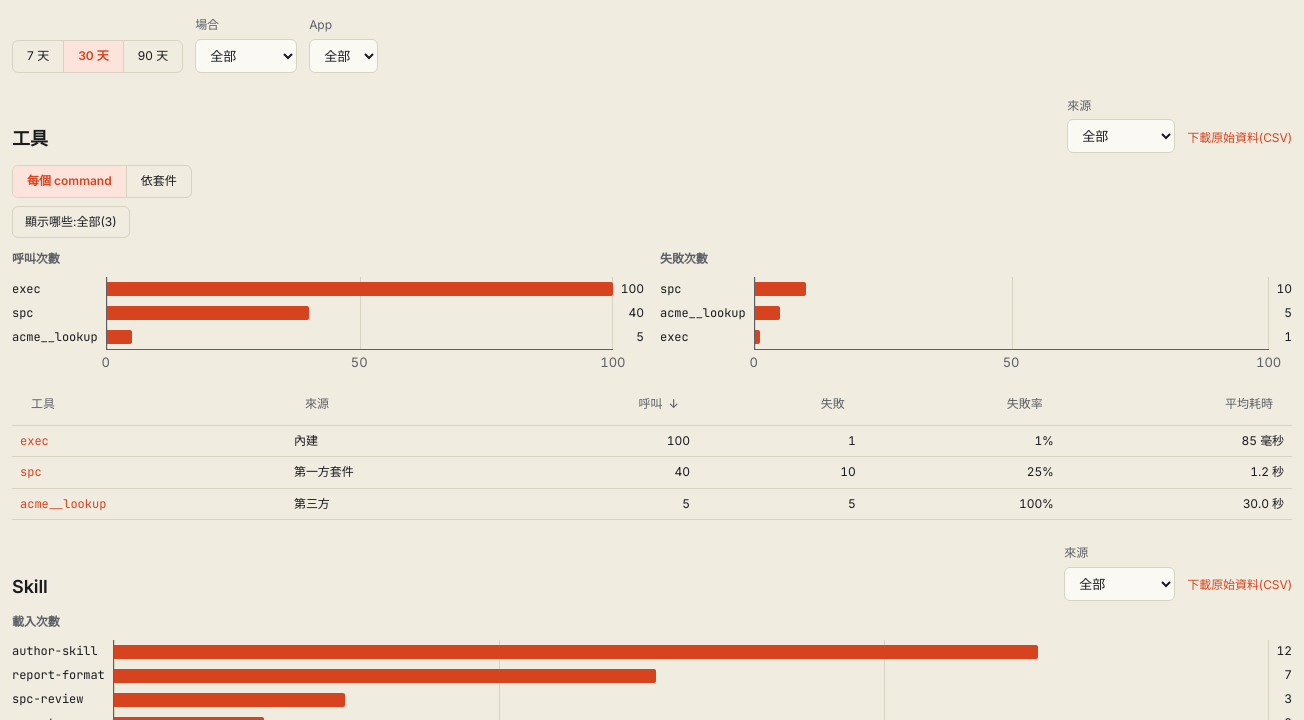
it: a row's details, in a side panel (NN/g, Data Tables) › closes with its ✕ and with Escape
Click the button "spc" at [31, 472], box [20,463,42,482]
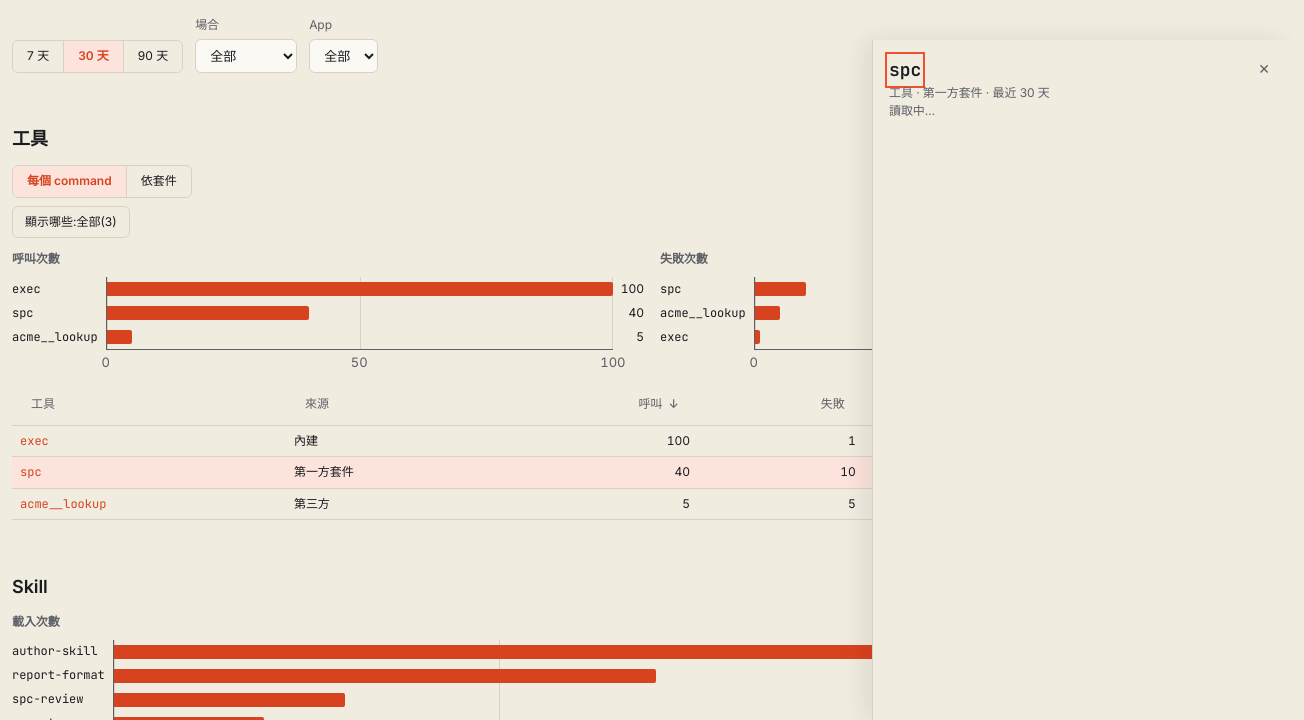
Click the button named "關閉" at [1264, 69], box [1252,56,1276,82]
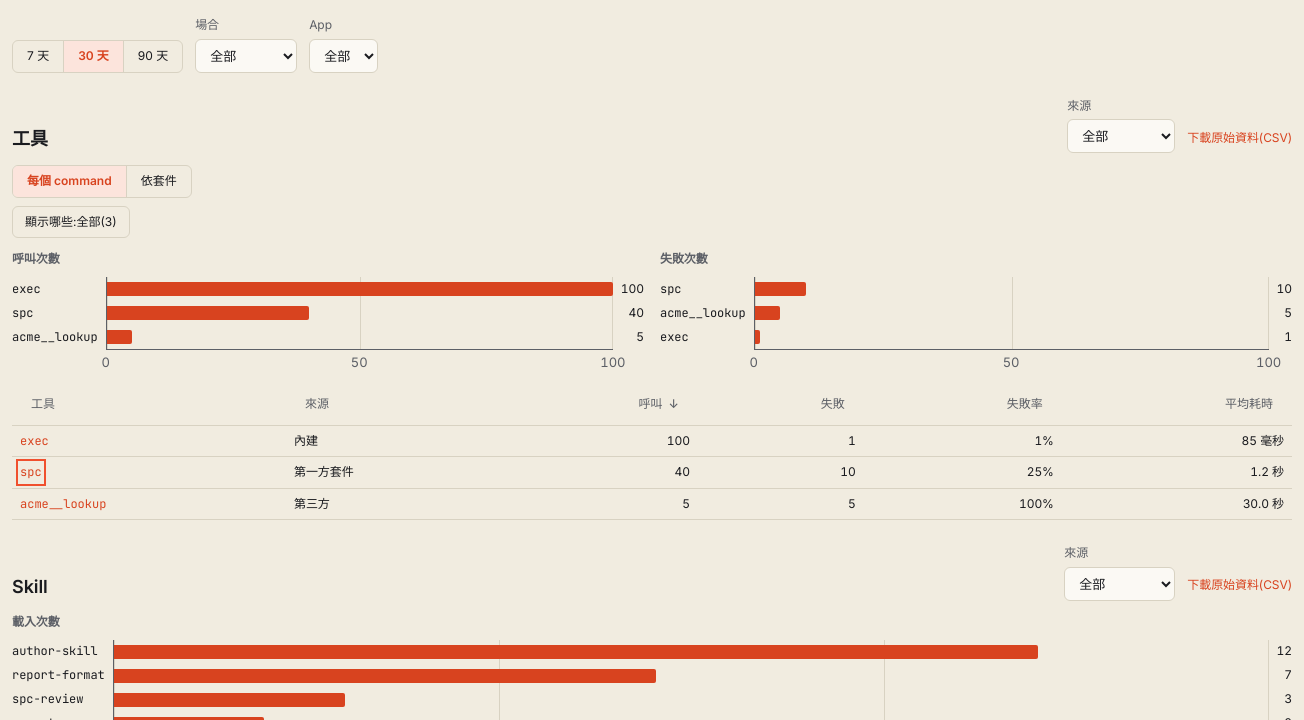
Now the element with test id "tool-usage-detail" is gone
Click the button "spc" at [31, 472], box [20,463,42,482]
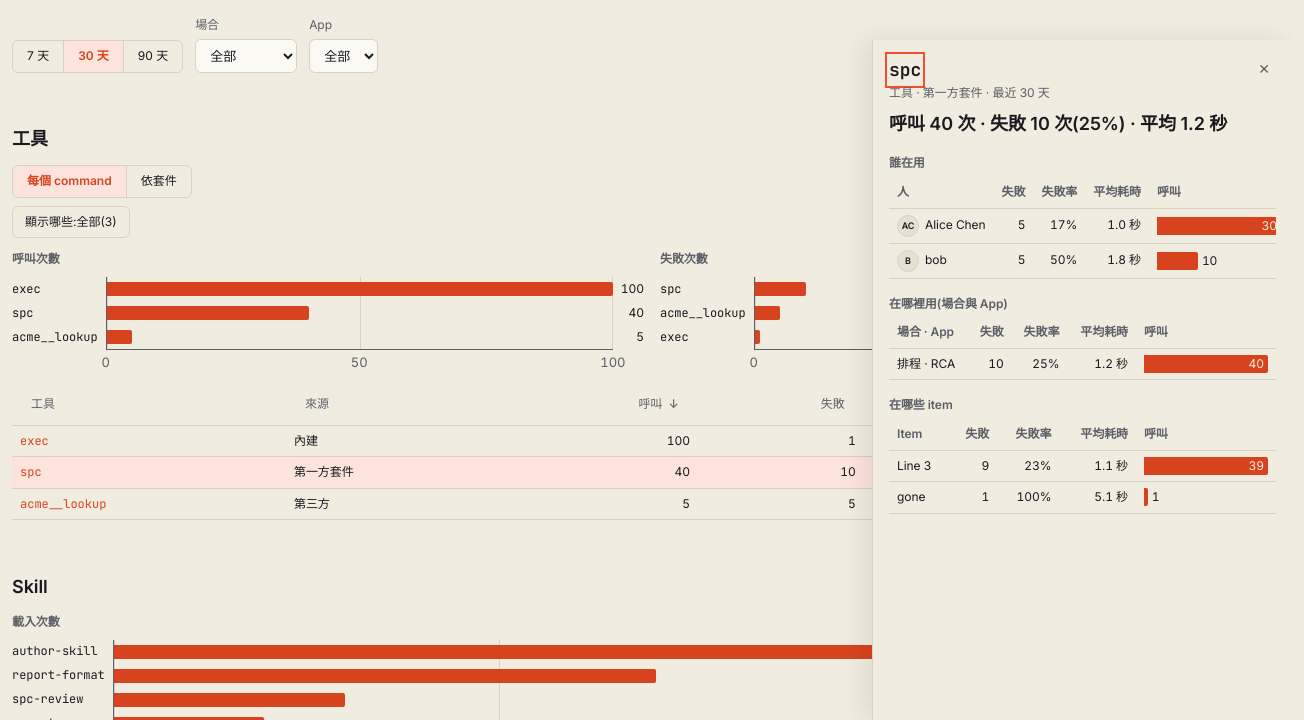
Press Escape in the element with test id "tool-usage-detail", box [872,40,1292,719]
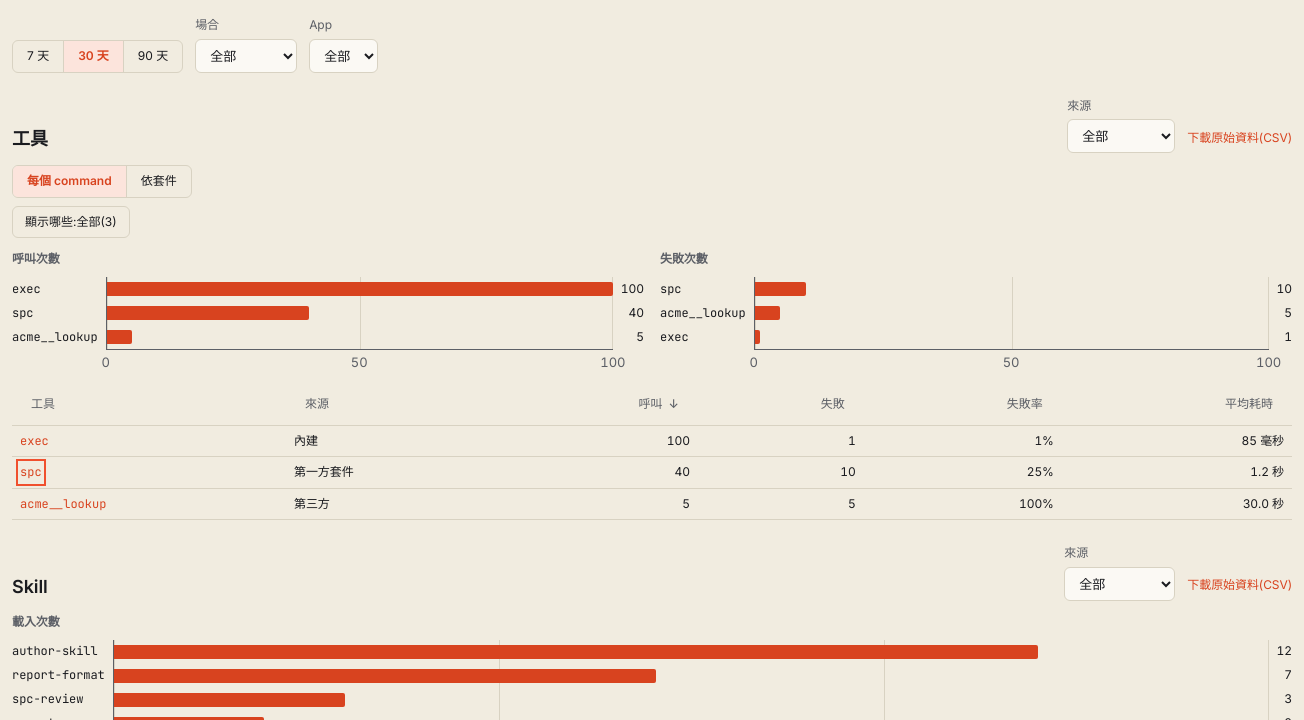
Now the element with test id "tool-usage-detail" is gone
